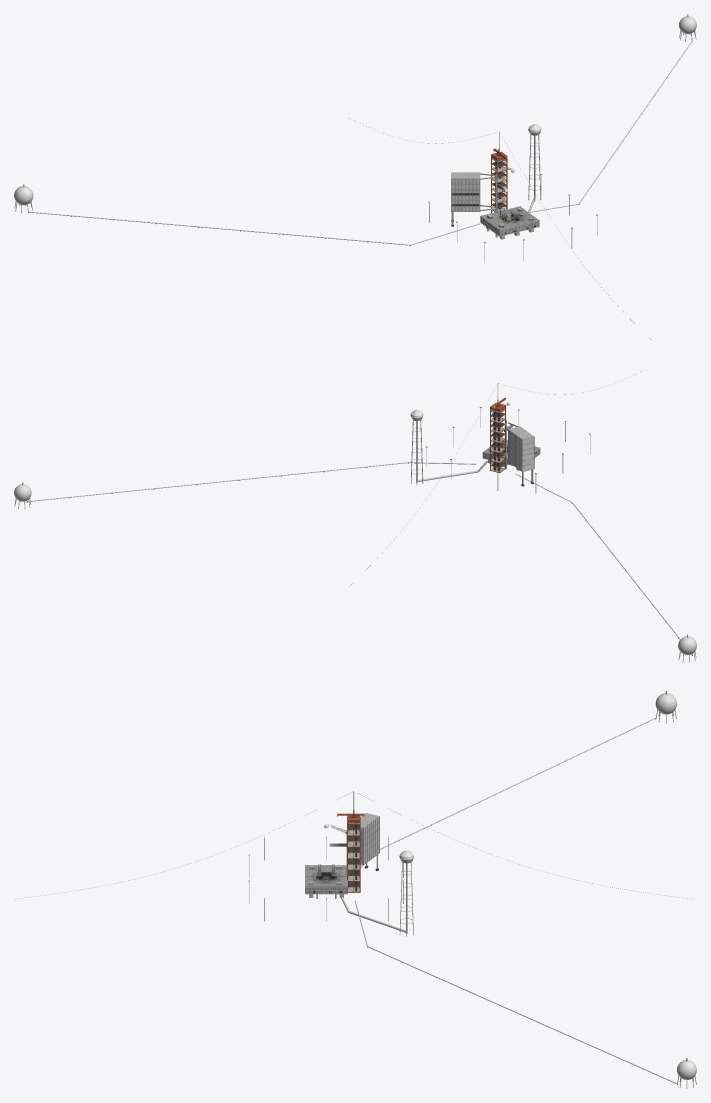
File: shuttle-pad.glb
The picture shows the model from 3 angles, top to bottom: view 1: azimuth 30°, elevation 25°; view 2: azimuth 150°, elevation 25°; view 3: azimuth 270°, elevation 25°; orthographic projection. The views are drawn at different scales.
Visible parts, largest first — view 1: Site, RSS, MLP, FSS; view 2: Site, FSS, RSS; view 3: Site, MLP, FSS, RSS.
Boxes of the visible parts, x1,y1,x2,y2 form: Site: (14, 14, 696, 262); RSS: (451, 172, 495, 226); MLP: (480, 206, 539, 239); FSS: (355, 121, 651, 340); Site: (14, 406, 696, 662); FSS: (349, 374, 635, 586); RSS: (504, 422, 534, 486); Site: (248, 691, 696, 1088); MLP: (305, 864, 347, 898); FSS: (15, 791, 692, 899); RSS: (345, 813, 379, 870).
Bounding box in the file's own units: 860 × 118 × 663.
Materials: 11 (9 with a texture image).
